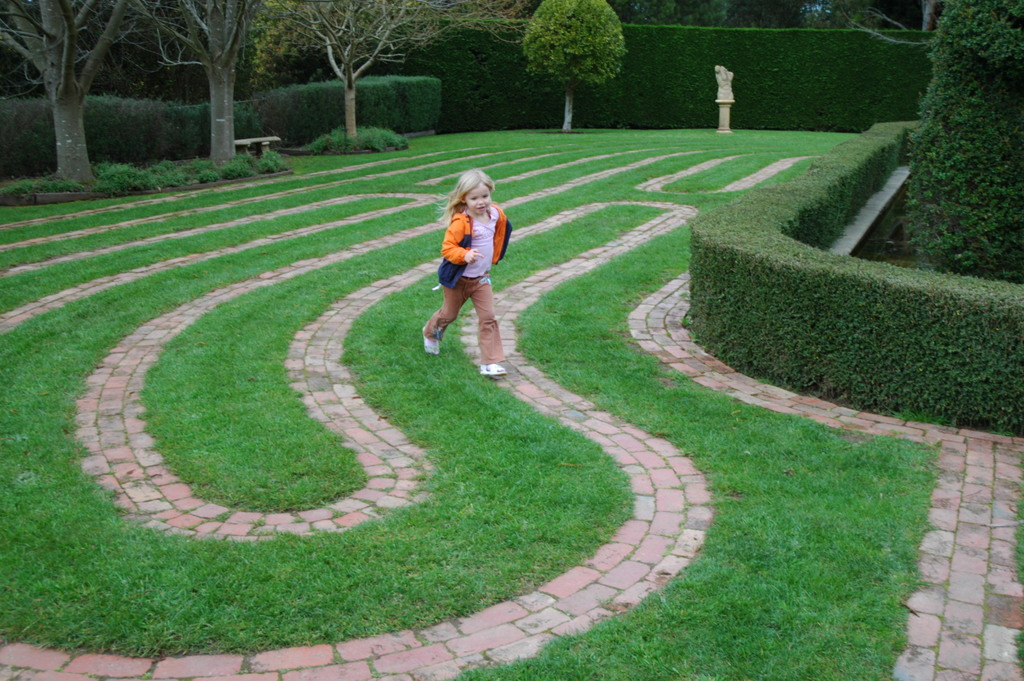Person: (422, 168, 512, 375)
